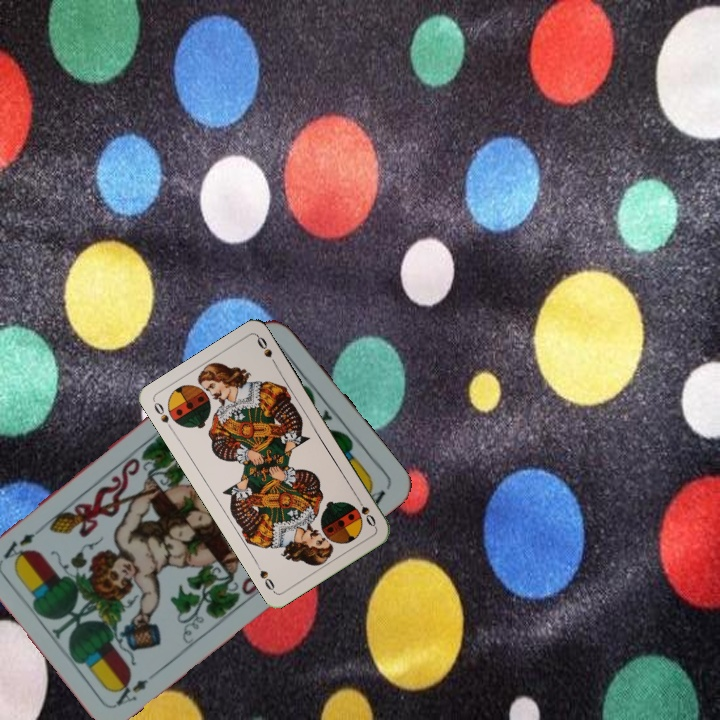EA: (108, 666, 161, 709)
SO: (352, 493, 379, 529), (150, 398, 177, 434)
